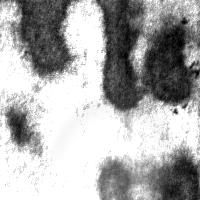patches: (53, 101, 175, 200), (37, 135, 145, 200), (96, 1, 142, 110), (144, 21, 195, 104), (19, 1, 73, 79), (152, 149, 200, 200), (95, 157, 132, 200), (7, 103, 32, 149)
